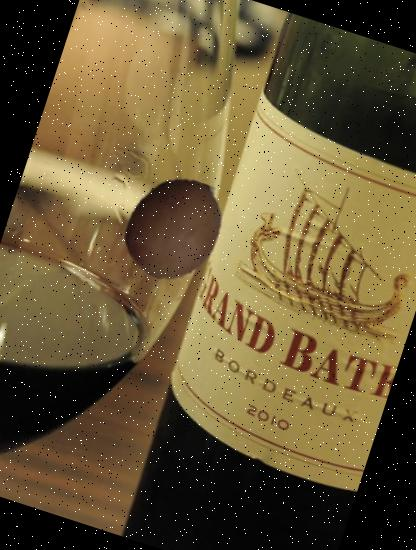Apricot: (106, 161, 240, 295)
